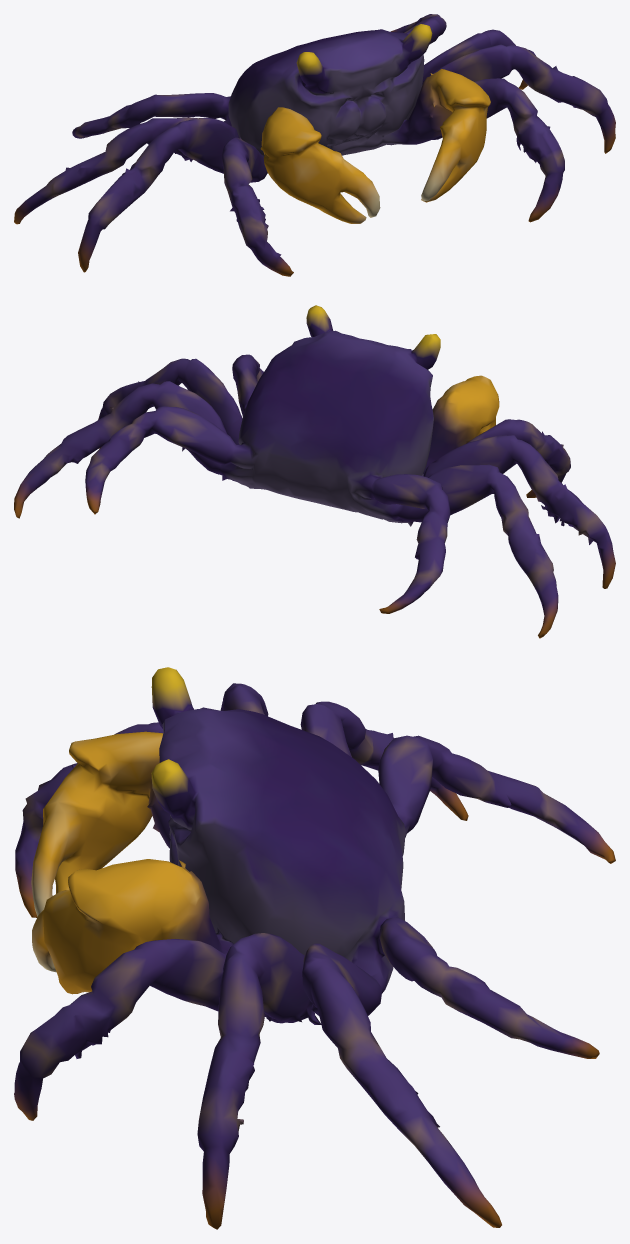
File: crab.glb
The picture shows the model from 3 angles, top to bottom: view 1: azimuth 30°, elevation 25°; view 2: azimuth 150°, elevation 25°; view 3: azimuth 270°, elevation 25°; orthographic projection. The views are drawn at different scales.
Visible parts, largest first — view 1: crab; view 2: crab; view 3: crab.
Part boxes in pixels (x1,y1,x2,y2): crab: (14,14,615,276); crab: (14,305,615,638); crab: (14,667,615,1229).
Bounding box in the file's own units: 0.0644 × 0.0222 × 0.0387.
